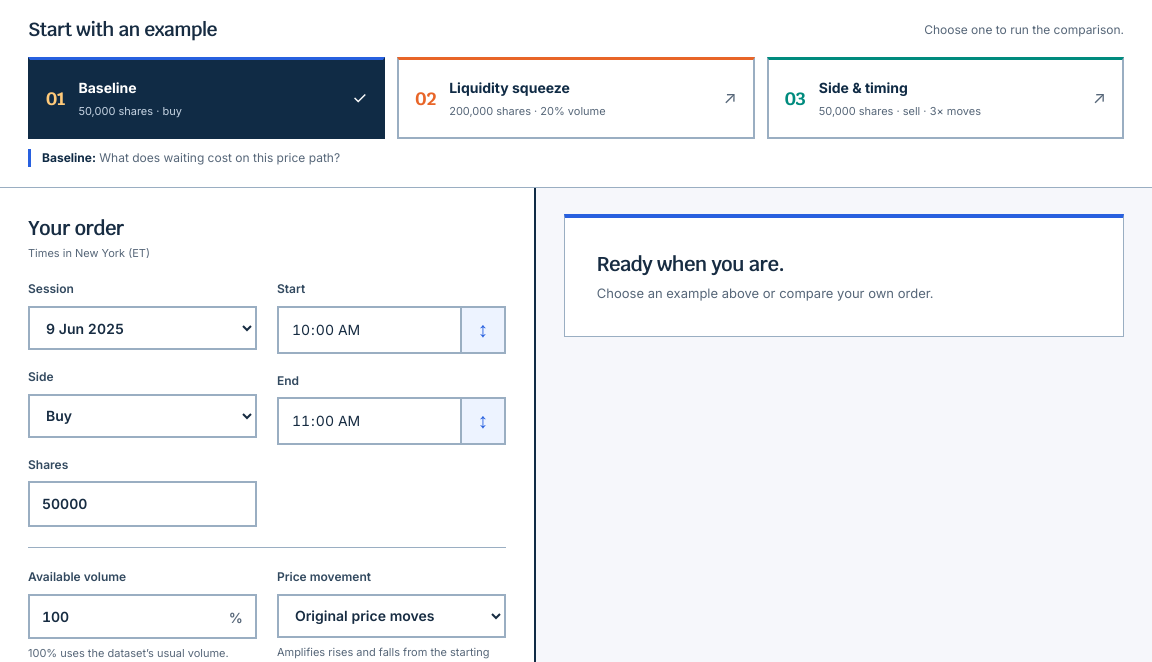
it: submits time-field input events through the exclusive session close
(page scrolled)
Replace the text in the time field labelled "Start" with "09:30" at coordinates (368, 330), box [277,306,460,354]
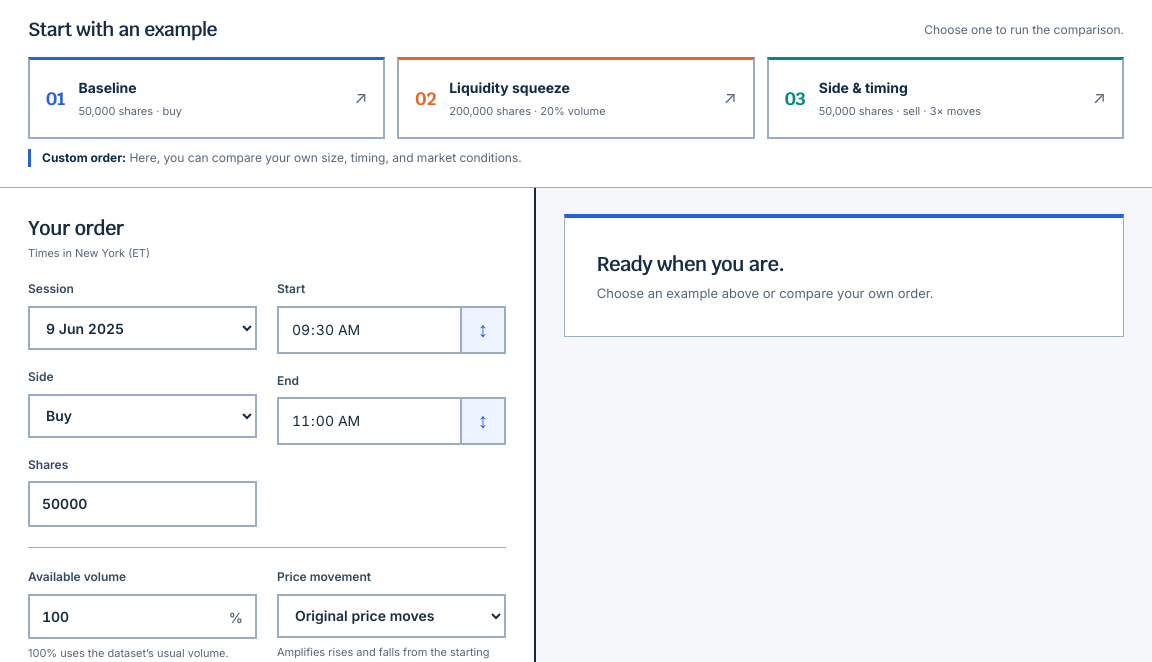
Replace the text in the time field labelled "End" with "16:00" at coordinates (368, 421), box [277,397,460,445]
(page scrolled)
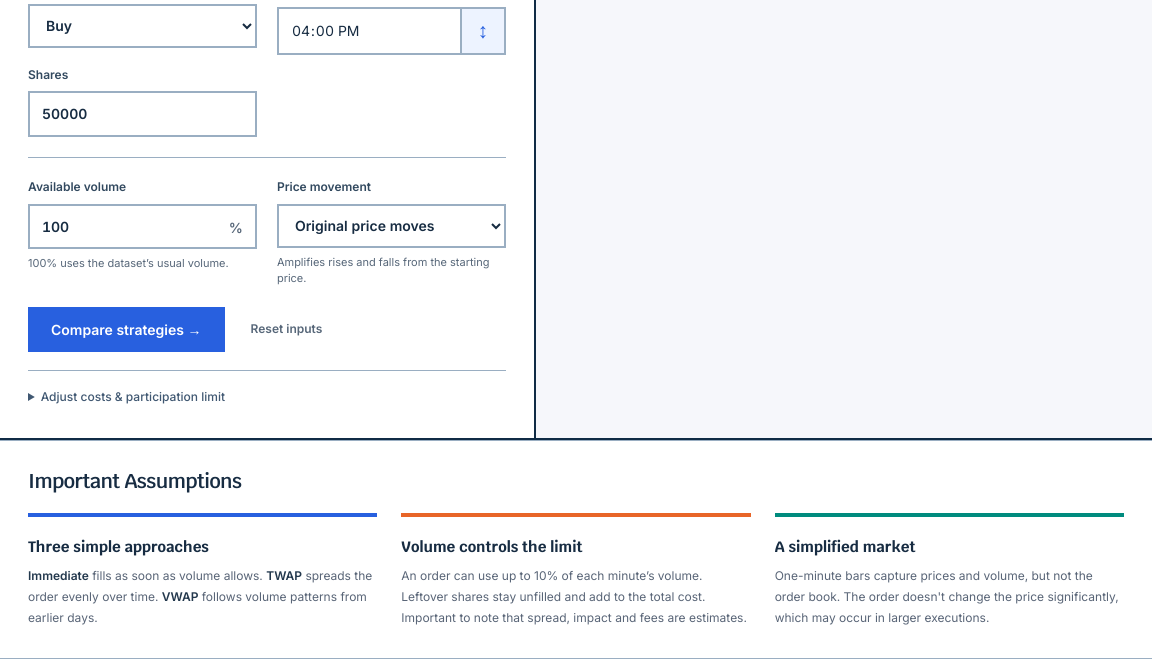
Click the button "Compare strategies →" at coordinates (126, 329), box [28,306,224,352]
(page scrolled)
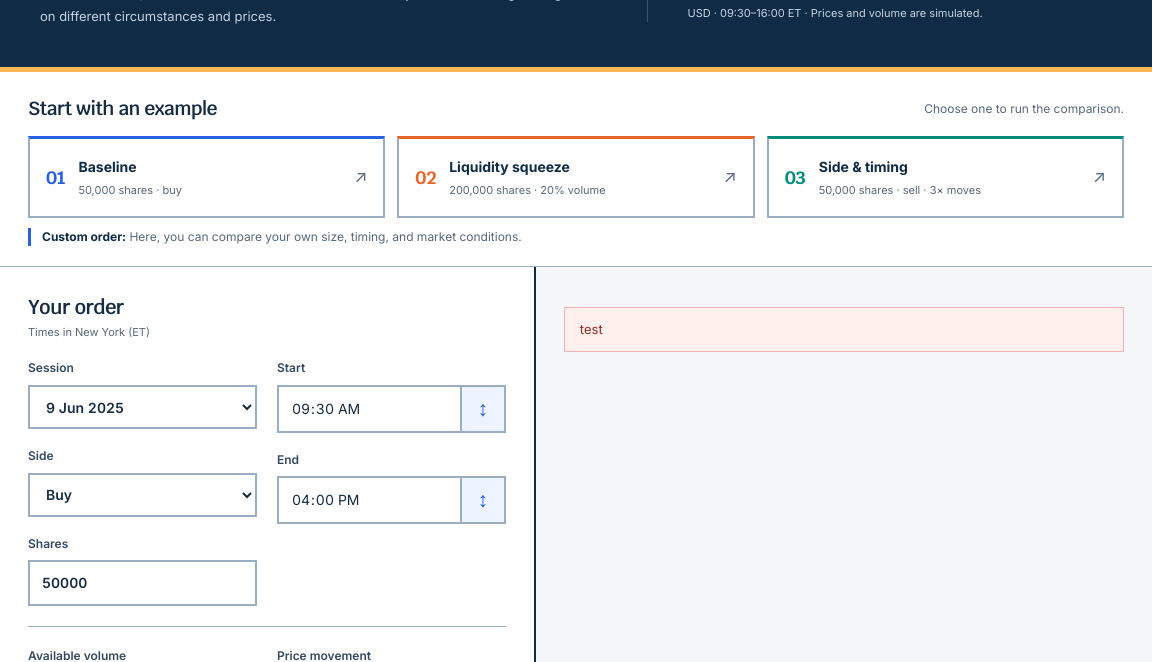
Check: the message "test" is shown, box [564,307,1124,352]
